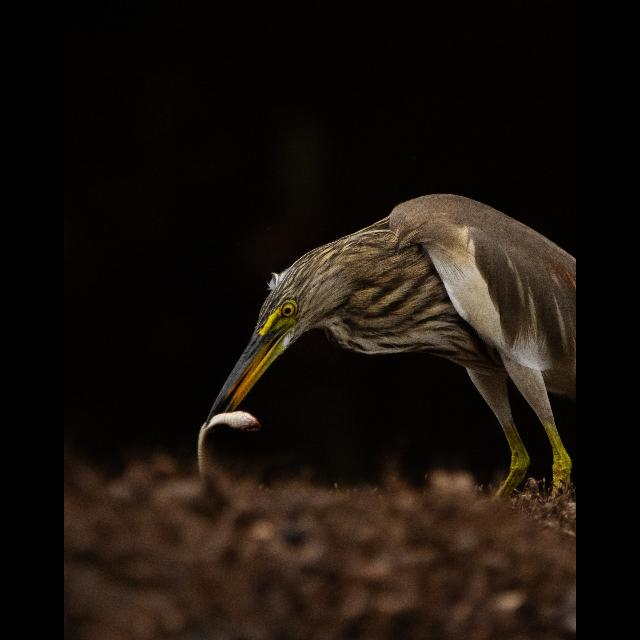heron: (205, 192, 572, 528)
